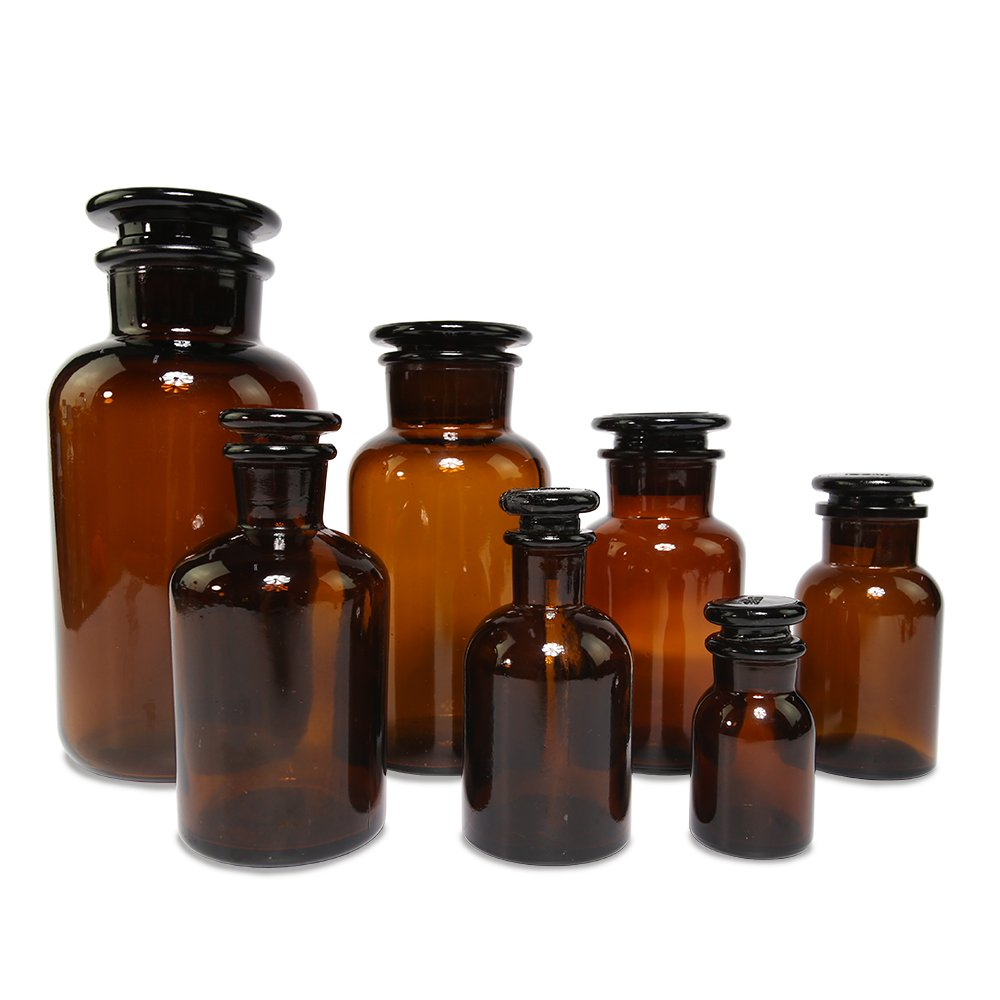glass_bottle: (17, 175, 970, 892)
